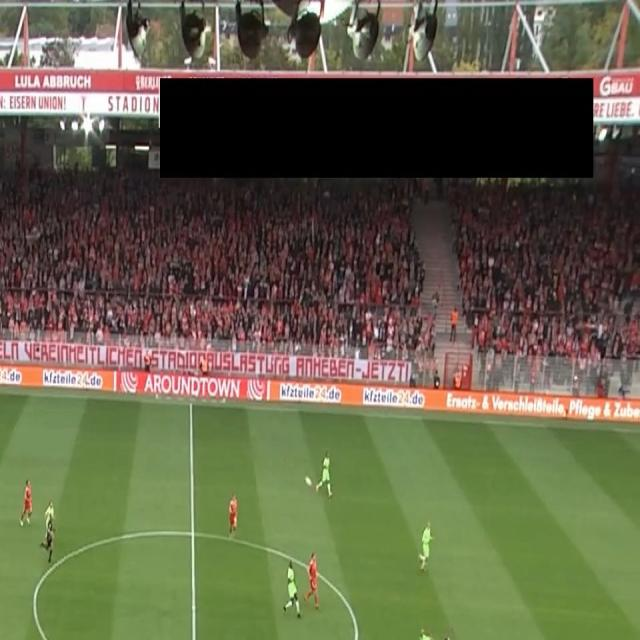ball: (304, 475, 312, 487)
